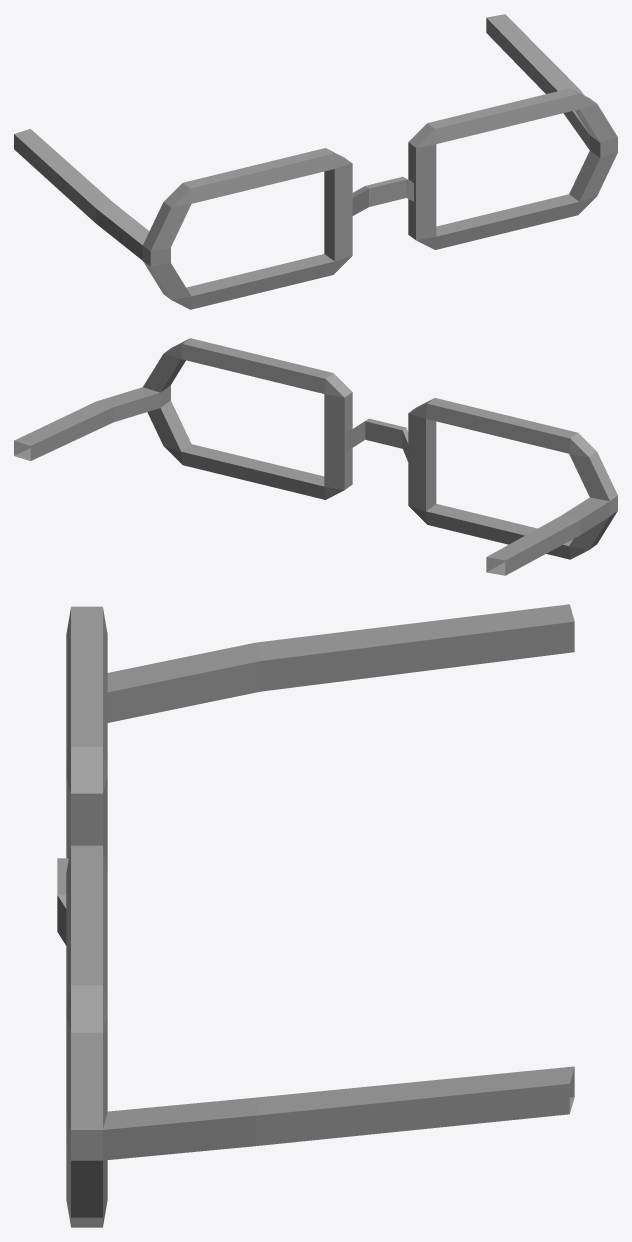
File: Pedestrian_Boy_Glasses.fbx
3 views of the same model, one above another, from view 1: azimuth 30°, elevation 25°; view 2: azimuth 150°, elevation 25°; view 3: azimuth 270°, elevation 25° (orthographic). The views are drawn at different scales.
Parts seen in each view (by area): view 1: Pedestrian_Boy_Glasses; view 2: Pedestrian_Boy_Glasses; view 3: Pedestrian_Boy_Glasses.
Part boxes in pixels (left/top/right/bottom): Pedestrian_Boy_Glasses: left=14, top=14, right=617, bottom=309; Pedestrian_Boy_Glasses: left=14, top=338, right=617, bottom=575; Pedestrian_Boy_Glasses: left=57, top=604, right=574, bottom=1227.
Bounding box in the file's own units: 16.35 × 3.85 × 7.46.
